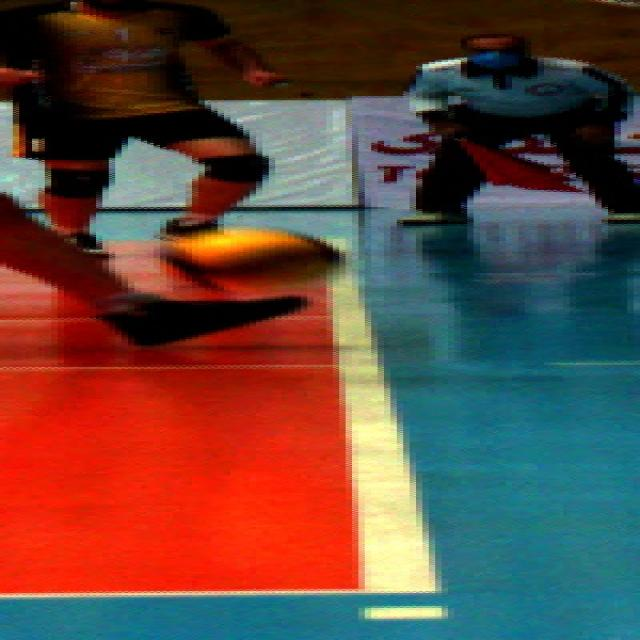Volleyball: (160, 226, 340, 290)
